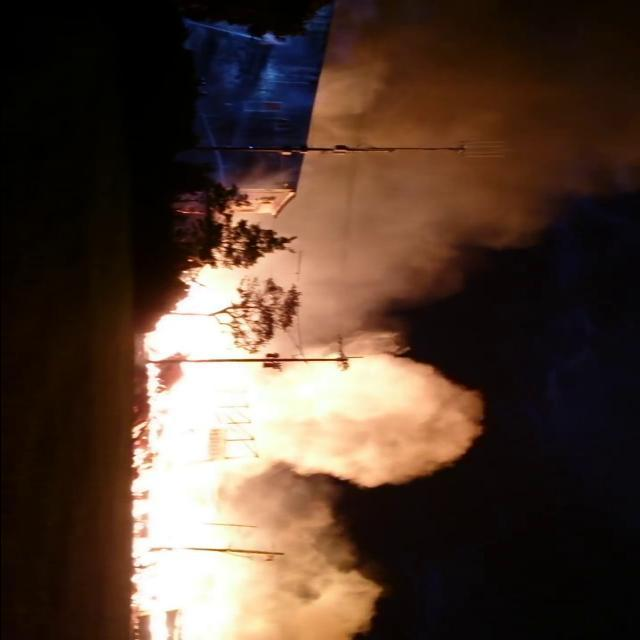Fire: (130, 263, 265, 639)
